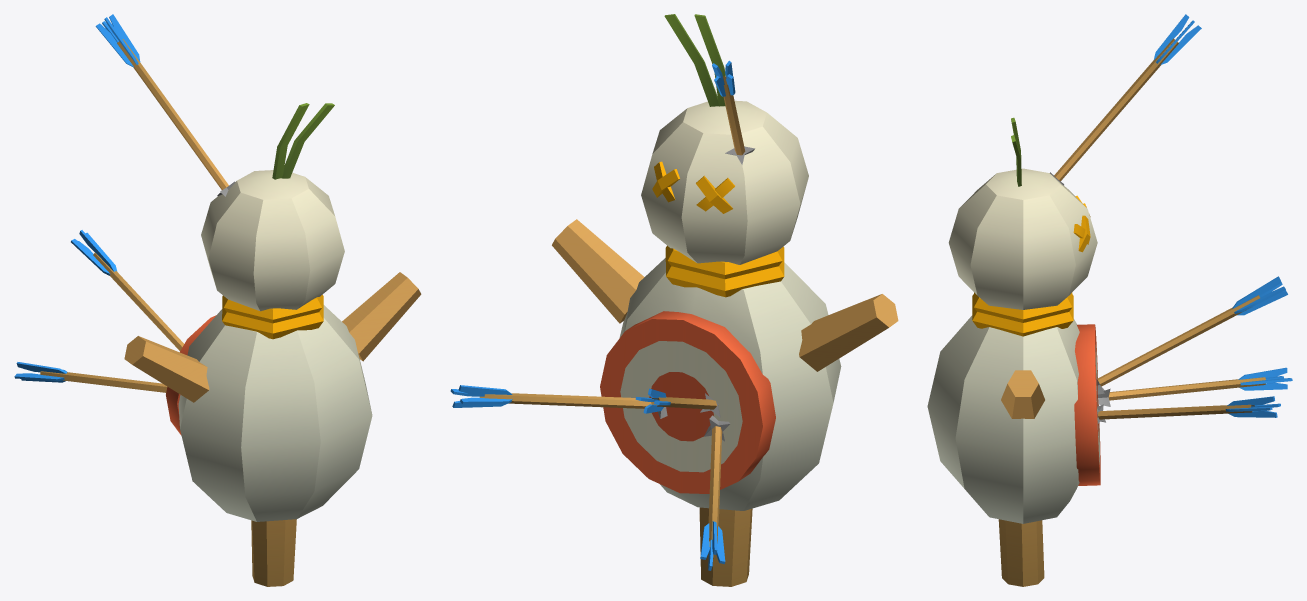
File: Target+1.fbx
3 views of the same model, side by side, from view 1: azimuth 30°, elevation 25°; view 2: azimuth 150°, elevation 25°; view 3: azimuth 270°, elevation 25° (orthographic). The views are drawn at different scales.
Visible parts, largest first — view 1: Target 1; view 2: Target 1; view 3: Target 1.
Boxes of the visible parts, x1,y1,x2,y2 form: Target 1: (14,14,421,586); Target 1: (450,14,898,586); Target 1: (927,14,1292,586).
Bounding box in the file's own units: 64.83 × 112 × 70.84.
